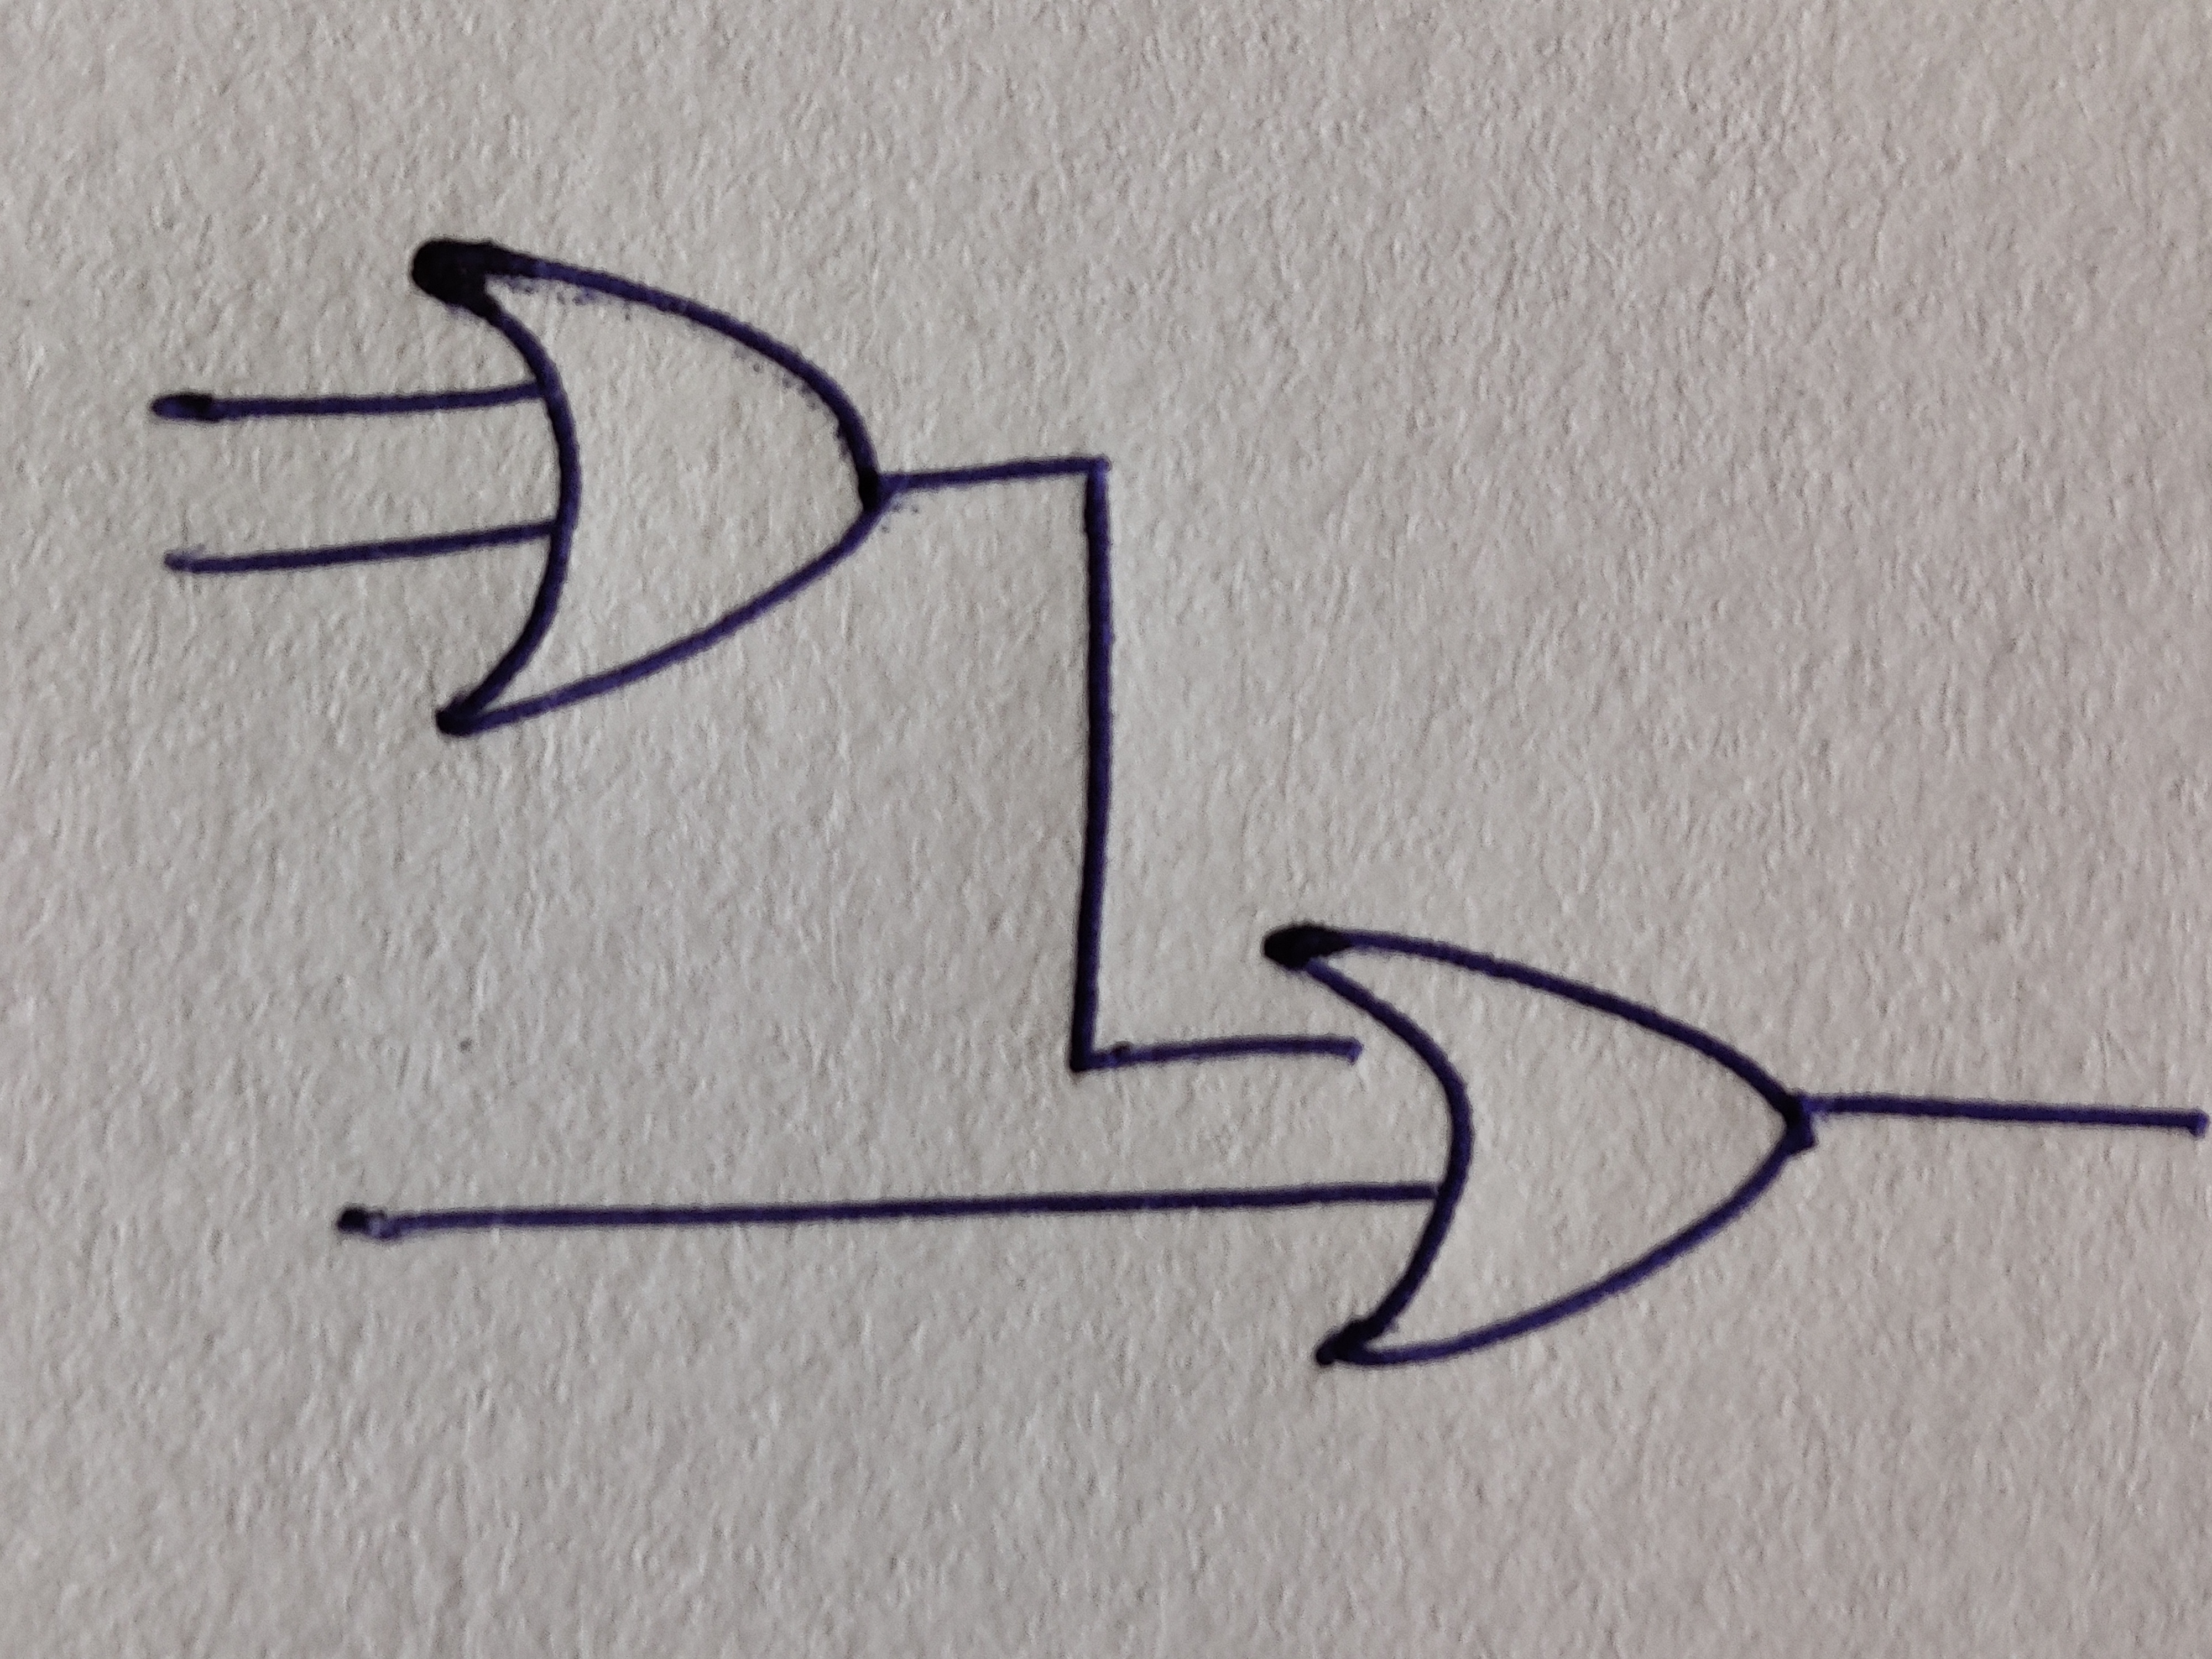or: (1263, 920, 1813, 1368), (411, 237, 887, 735)
